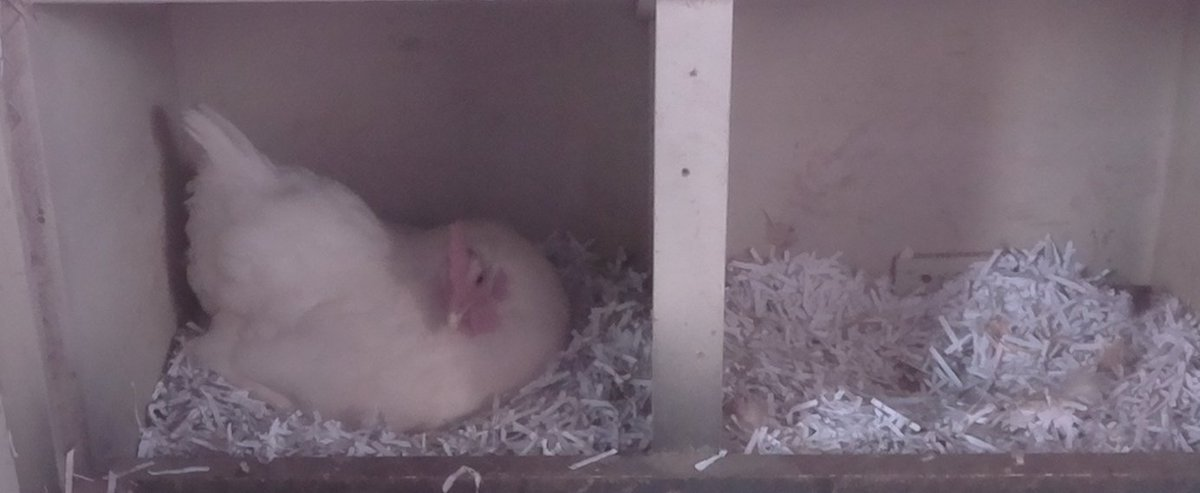hen: (173, 101, 577, 441)
